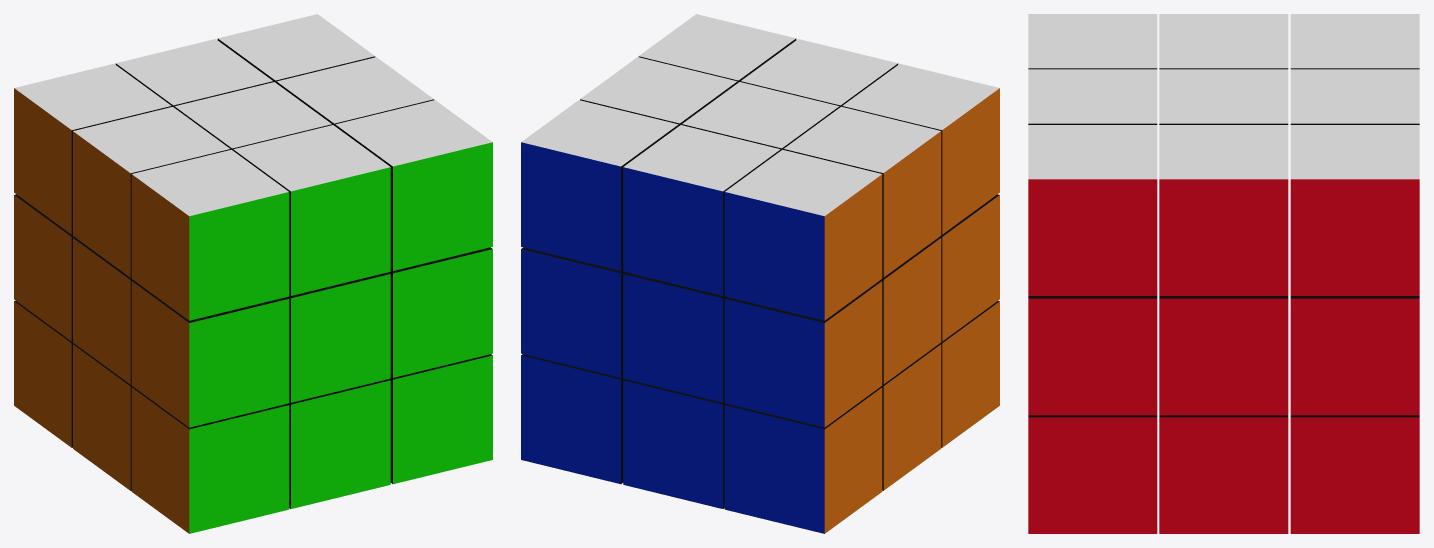
File: Cubik-Rubik_LITE_without_camera.glb
3 views of the same model, side by side, from view 1: azimuth 30°, elevation 25°; view 2: azimuth 150°, elevation 25°; view 3: azimuth 270°, elevation 25° (orthographic). The views are drawn at different scales.
Visible parts, largest first — view 1: O1_GOW.001, O4_GO.004, O7_GYO.007, R1_GWR.001, Mid1_GW.001, O3_OBW.003, O2_OW.002, R4_GR.004, R7_GRY.007, Mid4_CENTER_G.004, Mid7_YG.007, O6_OB.006 (+7 smaller); view 2: O3_OBW.003, O6_OB.006, O9_OYB.009, R3_RWB.003, Mid3_WB.003, O2_OW.002, O1_GOW.001, R6_RB.006, R9_RBY.009, Mid6_CENTER_B.006, Mid9_YB.009, O5_CENTER_O.005 (+7 smaller); view 3: R1_GWR.001, R2_WR.002, R3_RWB.003, R4_GR.004, R5_CENTER_R.005, R6_RB.006, R7_GRY.007, R8_RY.008, R9_RBY.009, Mid2_CENTER_W.002, Mid3_WB.003, Mid1_GW.001 (+3 smaller).
Part boxes in pixels (bbox=[...]): O1_GOW.001: bbox=[131, 149, 289, 320]; O4_GO.004: bbox=[131, 280, 289, 427]; O7_GYO.007: bbox=[131, 387, 289, 533]; R1_GWR.001: bbox=[335, 100, 492, 270]; Mid1_GW.001: bbox=[233, 125, 390, 295]; O3_OBW.003: bbox=[14, 63, 171, 234]; O2_OW.002: bbox=[73, 107, 230, 277]; R4_GR.004: bbox=[388, 247, 492, 377]; R7_GRY.007: bbox=[389, 354, 492, 484]; Mid4_CENTER_G.004: bbox=[287, 272, 390, 402]; Mid7_YG.007: bbox=[287, 379, 390, 508]; O6_OB.006: bbox=[14, 194, 74, 341]; O3_OBW.003: bbox=[724, 149, 882, 320]; O6_OB.006: bbox=[724, 280, 882, 427]; O9_OYB.009: bbox=[724, 387, 882, 533]; R3_RWB.003: bbox=[521, 100, 678, 270]; Mid3_WB.003: bbox=[623, 125, 780, 295]; O2_OW.002: bbox=[783, 106, 941, 277]; O1_GOW.001: bbox=[842, 63, 999, 234]; R6_RB.006: bbox=[521, 247, 625, 377]; R9_RBY.009: bbox=[521, 354, 624, 484]; Mid6_CENTER_B.006: bbox=[623, 272, 726, 402]; Mid9_YB.009: bbox=[623, 379, 726, 508]; O5_CENTER_O.005: bbox=[880, 237, 941, 384]; R1_GWR.001: bbox=[1028, 125, 1157, 295]; R2_WR.002: bbox=[1159, 125, 1288, 295]; R3_RWB.003: bbox=[1290, 125, 1419, 295]; R4_GR.004: bbox=[1028, 296, 1157, 415]; R5_CENTER_R.005: bbox=[1159, 296, 1288, 415]; R6_RB.006: bbox=[1290, 296, 1419, 415]; R7_GRY.007: bbox=[1028, 415, 1157, 533]; R8_RY.008: bbox=[1159, 415, 1288, 533]; R9_RBY.009: bbox=[1290, 415, 1419, 533]; Mid2_CENTER_W.002: bbox=[1159, 69, 1288, 124]; Mid3_WB.003: bbox=[1290, 69, 1419, 124]; Mid1_GW.001: bbox=[1028, 69, 1157, 124].
Size of the model in its own units: 6.08 by 6.08 by 6.07.
